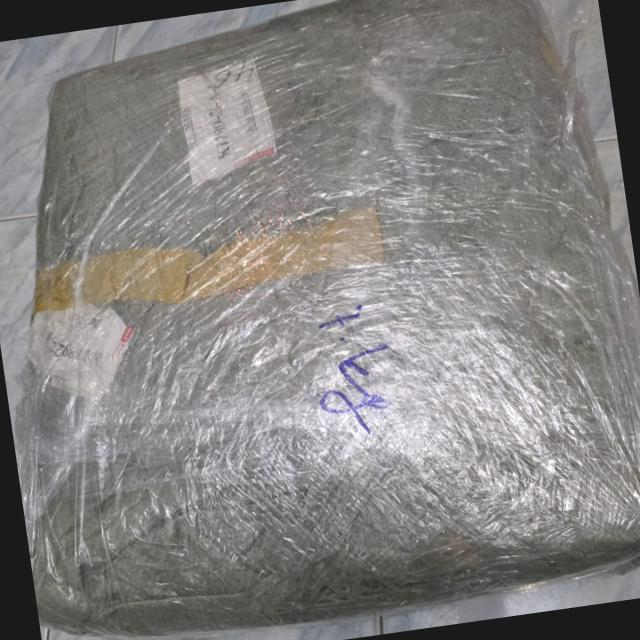export_mark_label: (168, 47, 300, 200)
